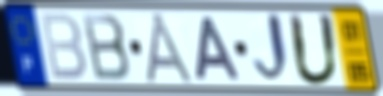A: (143, 11, 199, 86), (193, 15, 243, 82)
B: (79, 11, 133, 83), (38, 11, 89, 83)
J: (251, 10, 294, 88)
U: (285, 11, 342, 88)
